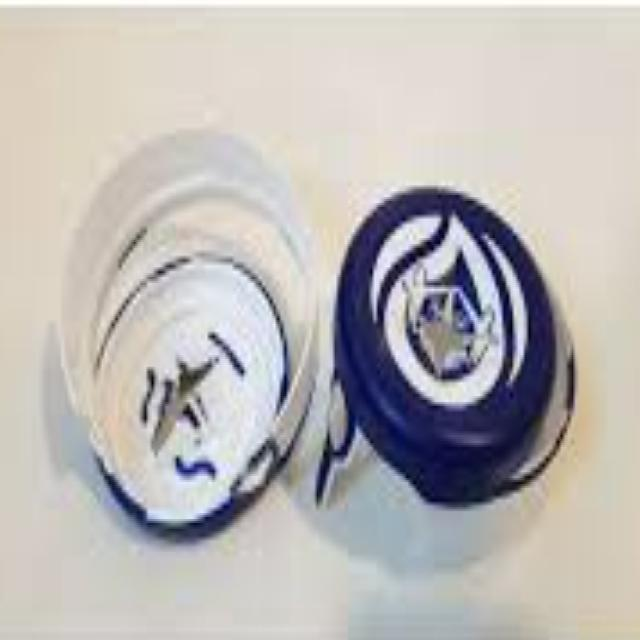TutupGalon: (61, 138, 324, 565), (335, 143, 589, 505)
